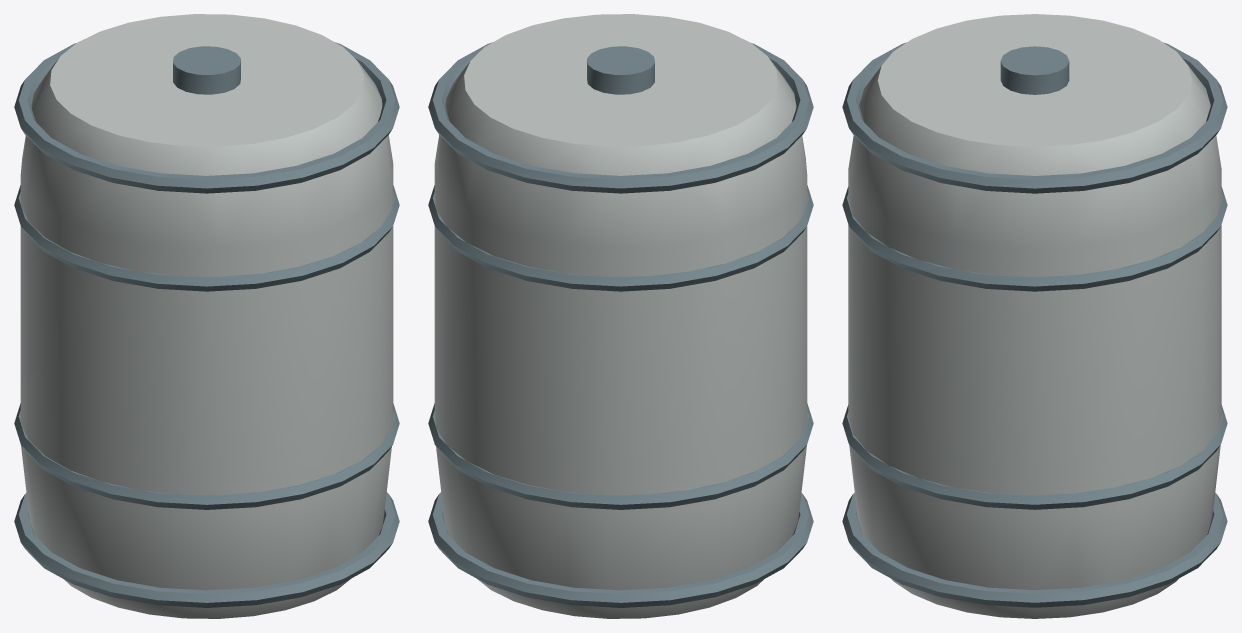
File: beer-keg.glb
3 views of the same model, side by side, from view 1: azimuth 30°, elevation 25°; view 2: azimuth 150°, elevation 25°; view 3: azimuth 270°, elevation 25° (orthographic).
Visible parts, largest first — view 1: steel_keg, reinforcement_hoop.003, reinforcement_hoop, reinforcement_hoop.001, reinforcement_hoop.002, coupler; view 2: steel_keg, reinforcement_hoop.003, reinforcement_hoop, reinforcement_hoop.001, reinforcement_hoop.002, coupler; view 3: steel_keg, reinforcement_hoop.003, reinforcement_hoop, reinforcement_hoop.001, reinforcement_hoop.002, coupler.
Boxes of the visible parts, <box> form: steel_keg: <box>20,14,393,618</box>; reinforcement_hoop.003: <box>14,42,399,193</box>; reinforcement_hoop: <box>14,492,399,607</box>; reinforcement_hoop.001: <box>14,403,399,509</box>; reinforcement_hoop.002: <box>14,185,399,291</box>; coupler: <box>173,46,240,94</box>; steel_keg: <box>434,14,807,618</box>; reinforcement_hoop.003: <box>428,42,813,193</box>; reinforcement_hoop: <box>428,492,813,607</box>; reinforcement_hoop.001: <box>428,403,813,509</box>; reinforcement_hoop.002: <box>428,185,813,291</box>; coupler: <box>587,46,654,94</box>; steel_keg: <box>848,14,1221,618</box>; reinforcement_hoop.003: <box>842,42,1227,193</box>; reinforcement_hoop: <box>842,493,1227,607</box>; reinforcement_hoop.001: <box>842,405,1227,509</box>; reinforcement_hoop.002: <box>842,187,1227,291</box>; coupler: <box>1000,46,1069,94</box>.
Size of the model in its own units: 0.392 by 0.552 by 0.392.
